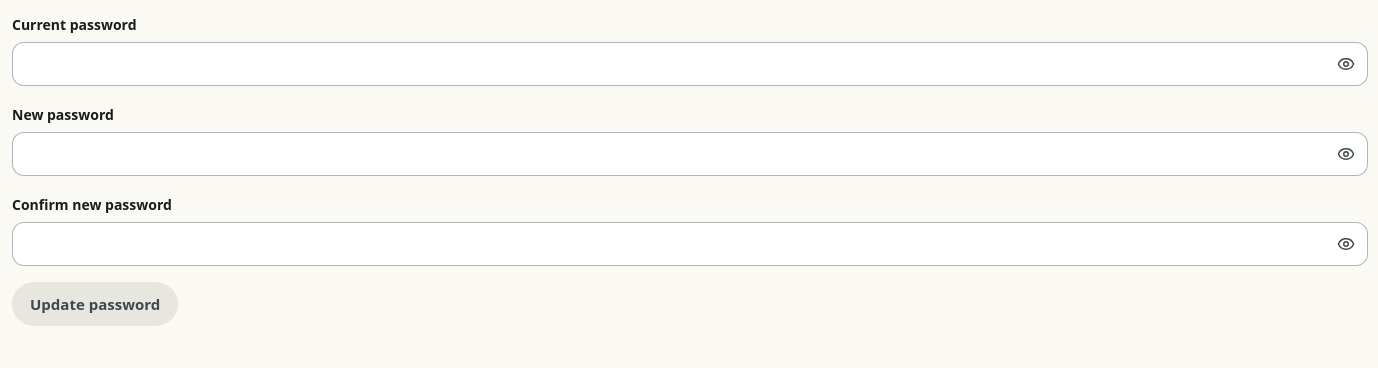
Test: ChangePasswordForm › shows a mismatch message and blocks submit when confirmation differs
In the password field labelled "Current password": coordinates (690, 64) [12,42,1368,86], type "old-password"
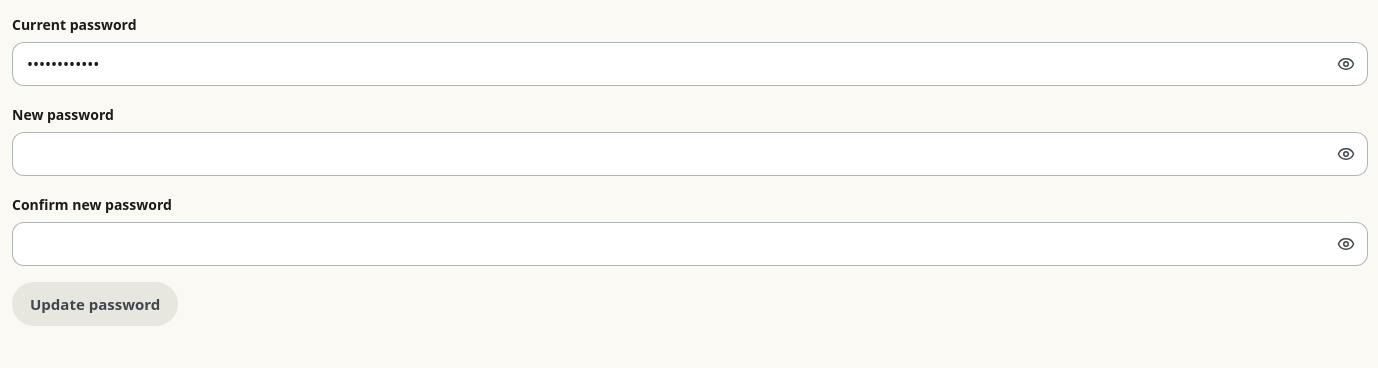
In the password field labelled "New password": coordinates (690, 154) [12,132,1368,176], type "new-password-123"
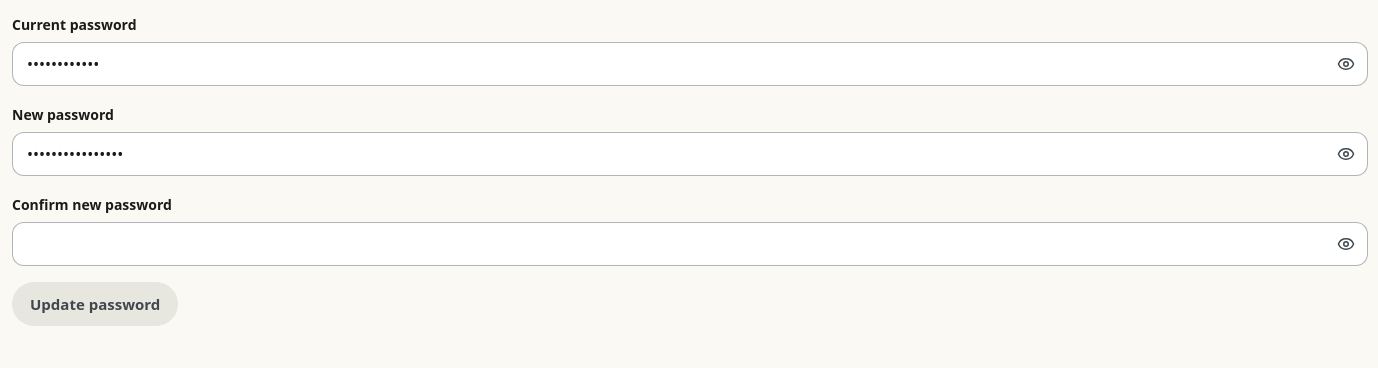
In the password field labelled "Confirm new password": coordinates (690, 244) [12,222,1368,266], type "new-password-124"
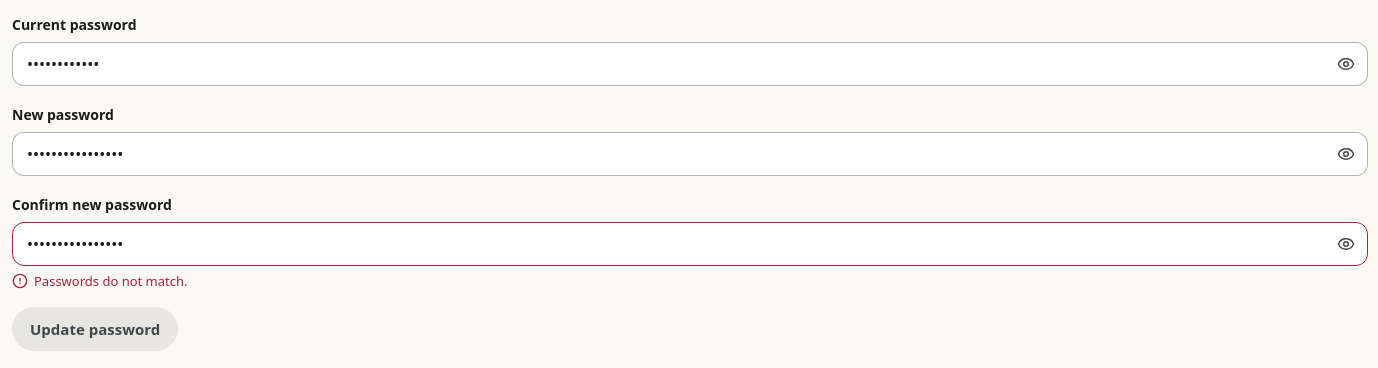
Expected: the button named "Update password" is disabled, [12,307,178,351]
Now the message reads "Passwords do not match.", box [34,272,188,290]
